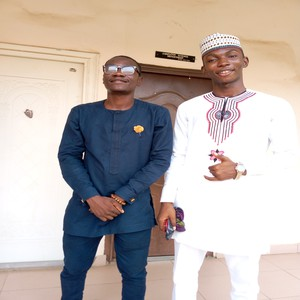Fulokoja_male_student: (181, 37, 275, 300), (66, 56, 154, 295)
